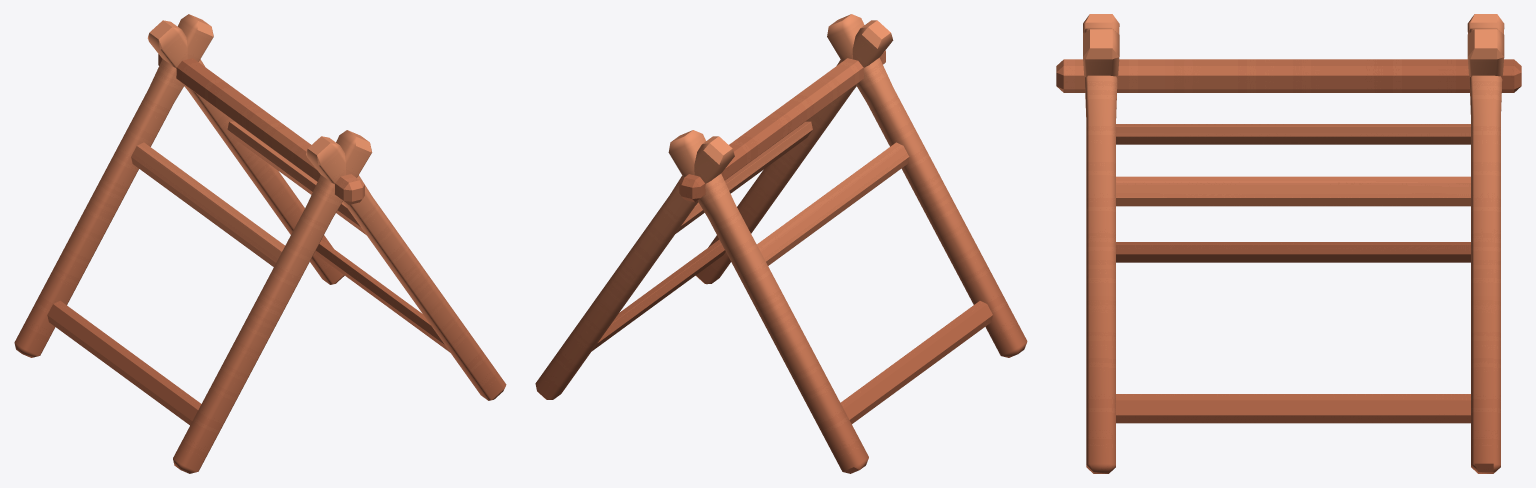
The model's file is kenney-survival__tent.glb.
The picture shows the model from 3 angles, left to right: view 1: azimuth 30°, elevation 25°; view 2: azimuth 150°, elevation 25°; view 3: azimuth 270°, elevation 25°; orthographic projection. The views are drawn at different scales.
Parts seen in each view (by area): view 1: tent; view 2: tent; view 3: tent.
Boxes of the visible parts, left/top/right/bottom form: tent: left=14, top=14, right=506, bottom=473; tent: left=535, top=14, right=1027, bottom=473; tent: left=1056, top=14, right=1521, bottom=473.
Bounding box in the file's own units: 0.5513 × 0.4819 × 0.561.
Materials: 1 (1 with a texture image).
